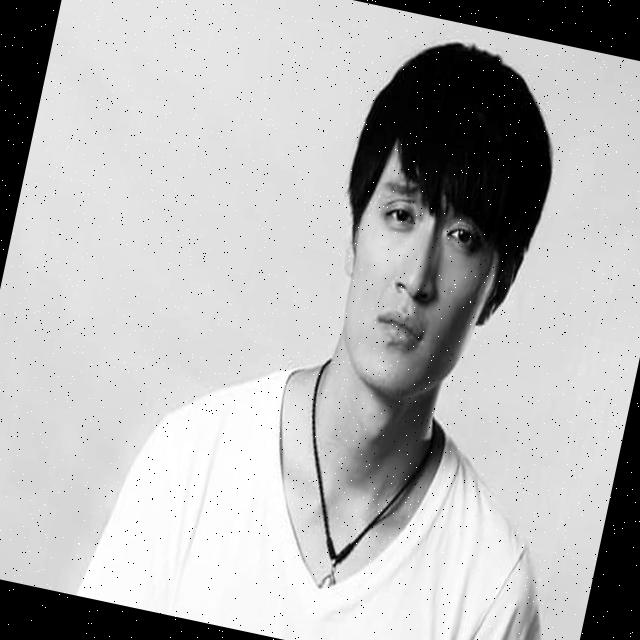Sadness: (332, 158, 502, 402)
